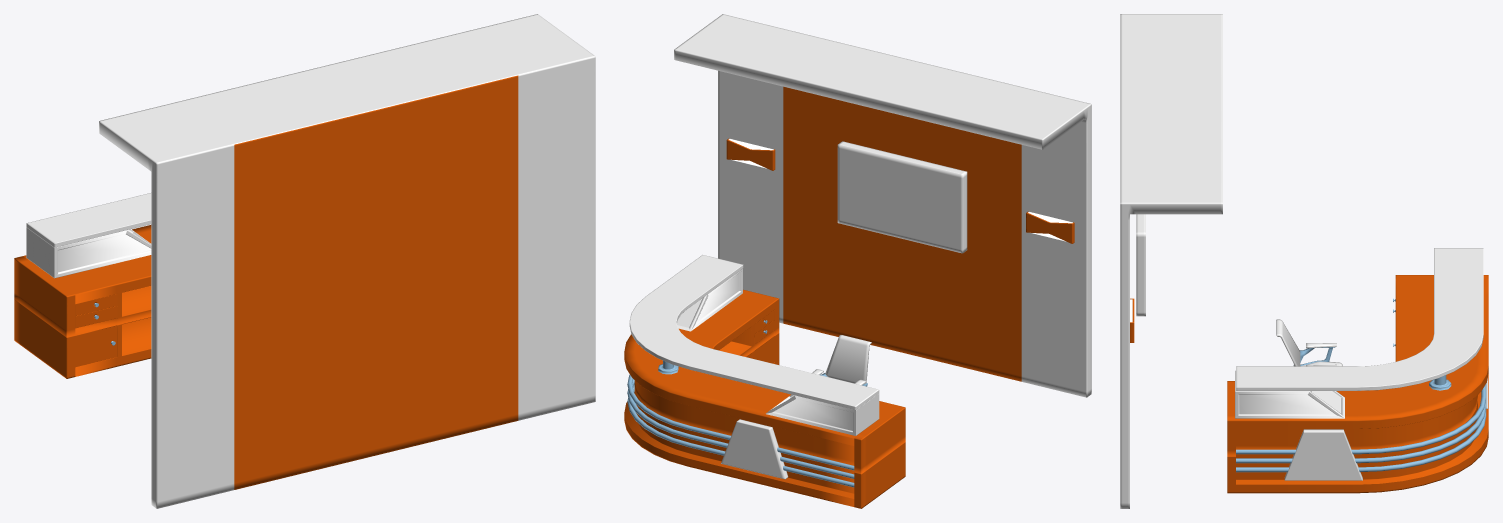
Rendered from Reception_table.glb.
The picture shows the model from 3 angles, left to right: view 1: azimuth 30°, elevation 25°; view 2: azimuth 150°, elevation 25°; view 3: azimuth 270°, elevation 25°; orthographic projection. The views are drawn at different scales.
Visible parts, largest first — view 1: Wall, Table, Box, Glass, CupBoard; view 2: Wall, Table, LCD, Glass, Box, Board.001, Chair, Box.001, Pipe, Lamp.001, Lamp, Pipe.001 (+1 smaller); view 3: Wall, Table, Glass, Board, Box.001, Pipe, Pipe.001, Pipe.002, Chair, LCD.
Boxes of the visible parts, bbox=[...] form: Wall: bbox=[99, 14, 595, 508]; Table: bbox=[14, 225, 151, 378]; Box: bbox=[26, 227, 151, 278]; Glass: bbox=[26, 193, 151, 247]; CupBoard: bbox=[75, 326, 116, 367]; Wall: bbox=[674, 14, 1091, 397]; Table: bbox=[624, 289, 905, 508]; LCD: bbox=[837, 141, 967, 253]; Glass: bbox=[629, 255, 879, 410]; Box: bbox=[766, 393, 879, 435]; Board.001: bbox=[721, 419, 788, 479]; Chair: bbox=[812, 335, 871, 386]; Box.001: bbox=[677, 269, 742, 331]; Pipe: bbox=[627, 374, 854, 470]; Lamp.001: bbox=[726, 138, 775, 170]; Lamp: bbox=[1026, 211, 1074, 243]; Pipe.001: bbox=[627, 379, 854, 478]; Wall: bbox=[1120, 14, 1222, 508]; Table: bbox=[1227, 275, 1488, 493]; Glass: bbox=[1236, 248, 1483, 390]; Board: bbox=[1284, 429, 1362, 480]; Box.001: bbox=[1235, 370, 1344, 418]; Pipe: bbox=[1236, 384, 1486, 454]; Pipe.001: bbox=[1236, 399, 1486, 463]; Pipe.002: bbox=[1236, 408, 1486, 472]; Chair: bbox=[1276, 319, 1342, 366]; LCD: bbox=[1136, 214, 1145, 316].
Bounding box in the file's own units: 11.09 × 8.34 × 9.12.
